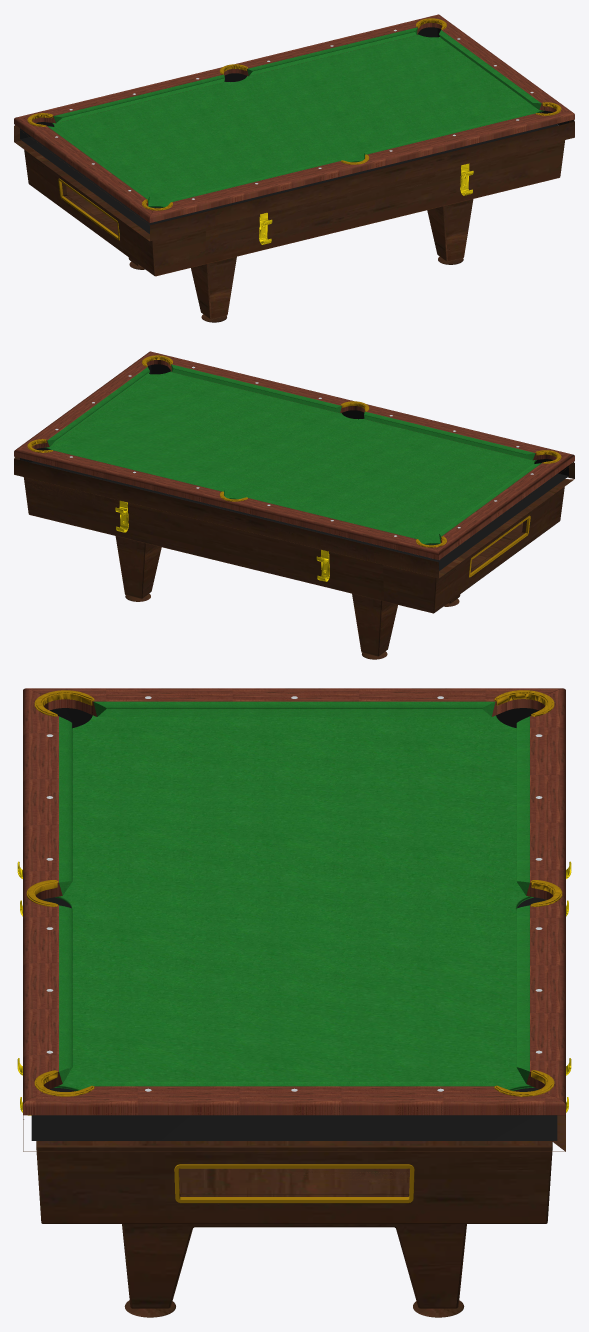
Rendered from billardTable.glb.
The picture shows the model from 3 angles, top to bottom: view 1: azimuth 30°, elevation 25°; view 2: azimuth 150°, elevation 25°; view 3: azimuth 270°, elevation 25°; orthographic projection. The views are drawn at different scales.
Parts seen in each view (by area): view 1: obj164; view 2: obj164; view 3: obj164.
Part boxes in pixels (bbox=[...]): obj164: bbox=[14, 14, 574, 322]; obj164: bbox=[14, 351, 574, 659]; obj164: bbox=[17, 688, 571, 1317].
Bounding box in the file's own units: 18.77 × 6.27 × 10.58.
9 materials, 5 textured.
